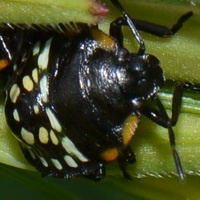insect: (129, 93, 199, 199), (119, 0, 199, 82)
